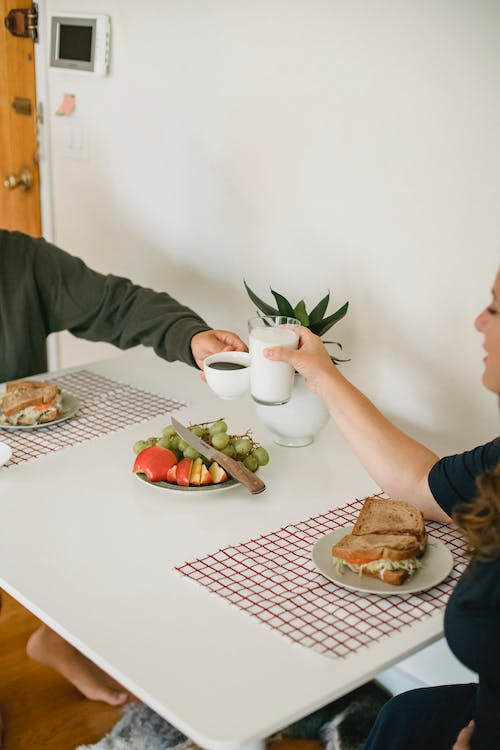knife: (167, 413, 268, 496)
